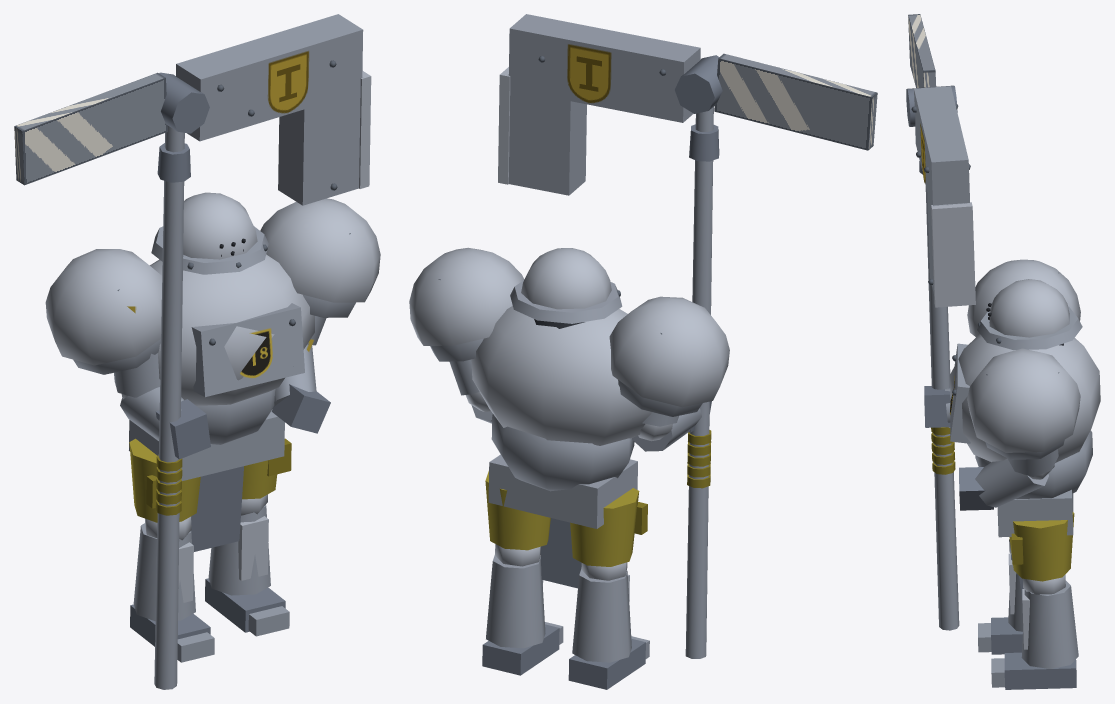
File: hammerist-v1.glb
3 renders of one model, left to right at view 1: azimuth 30°, elevation 25°; view 2: azimuth 150°, elevation 25°; view 3: azimuth 270°, elevation 25°, orthographic. The views are drawn at different scales.
Parts seen in each view (by area): view 1: Hammerist · Original; view 2: Hammerist · Original; view 3: Hammerist · Original.
Boxes of the visible parts, left/top/right/bottom form: Hammerist · Original: left=14, top=14, right=380, bottom=689; Hammerist · Original: left=409, top=14, right=877, bottom=689; Hammerist · Original: left=906, top=14, right=1100, bottom=689.
Bounding box in the file's own units: 6.22 × 8.92 × 2.86.
Materials: 76 (6 with a texture image).
